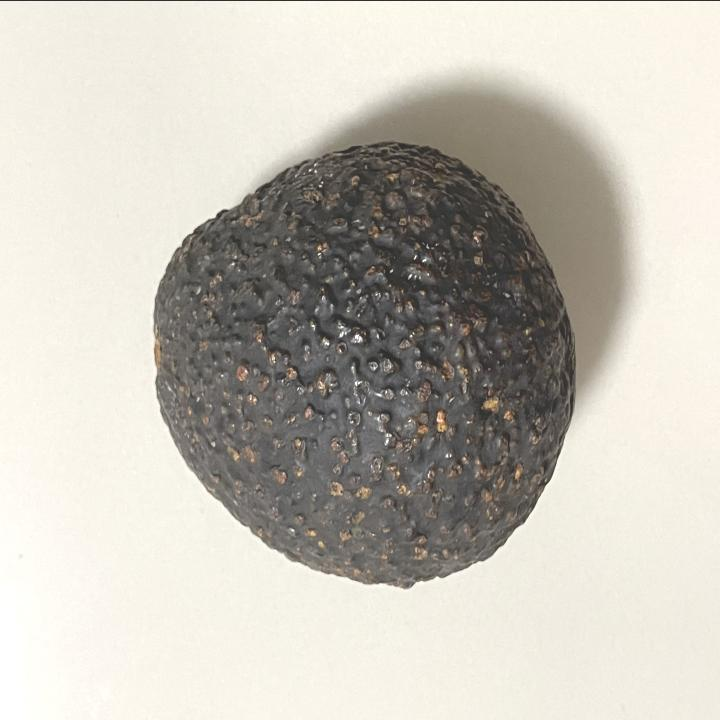Level3: (144, 133, 582, 598)
